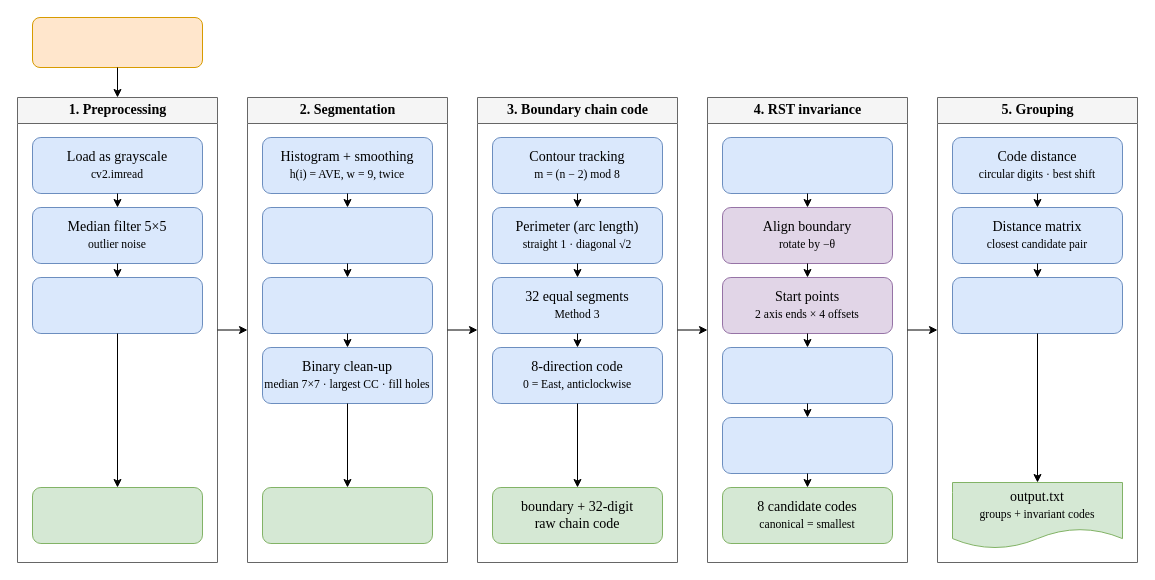
Some shapes in this 1155 by 580 pixel diagram are drawn without their labels. The shapes that lost their labels are listed below. From the top down, each one's centre as x and y in pixels, then its label:
the point at 117,42: Input folder .png / .jpg (command-line arg)
the point at 807,165: Image moments centroid · μ20 μ02 μ11 → θ
the point at 347,235: Valley threshold T fallback: inter-means
the point at 117,305: Gaussian filter σ = 3 19×19, separable
the point at 347,305: Threshold + polarity g = 1 if f > T
the point at 1037,305: Group: distance ≤ 6 union-find (connected comp.)
the point at 807,375: First difference (Ci − Ci−1) mod 8
the point at 807,445: Smallest circular shift start-point normalisation
the point at 117,515: denoised image
the point at 347,515: object mask
